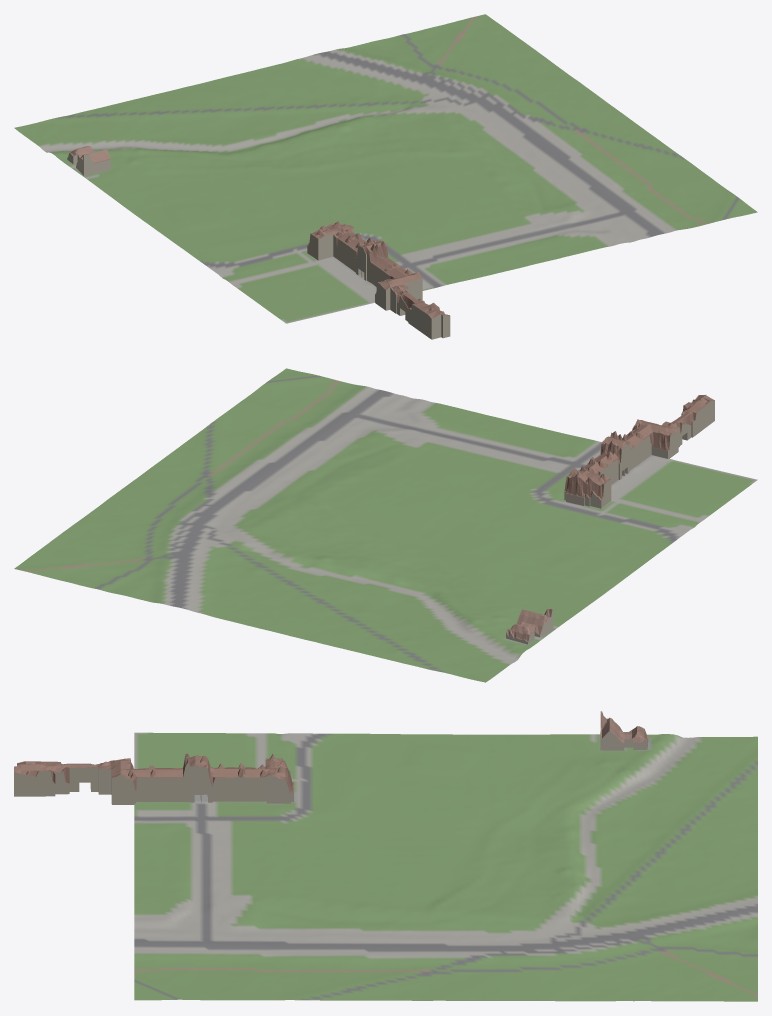
The picture shows the model from 3 angles, top to bottom: view 1: azimuth 30°, elevation 25°; view 2: azimuth 150°, elevation 25°; view 3: azimuth 270°, elevation 25°; orthographic projection. The views are drawn at different scales.
Parts seen in each view (by area): view 1: ground, b:way/161063746, b:way/161063786; view 2: ground, b:way/161063746, b:way/161063786; view 3: ground, b:way/161063746, b:way/161063786.
Boxes of the visible parts, x1,y1,x2,y2 form: ground: (14, 14, 757, 323); b:way/161063746: (307, 221, 450, 339); b:way/161063786: (67, 146, 110, 175); ground: (14, 368, 757, 682); b:way/161063746: (564, 395, 714, 508); b:way/161063786: (506, 609, 553, 644); ground: (134, 732, 757, 1001); b:way/161063746: (14, 753, 293, 804); b:way/161063786: (600, 711, 648, 750).
Size of the model in its own units: 250 by 21.08 by 298.
